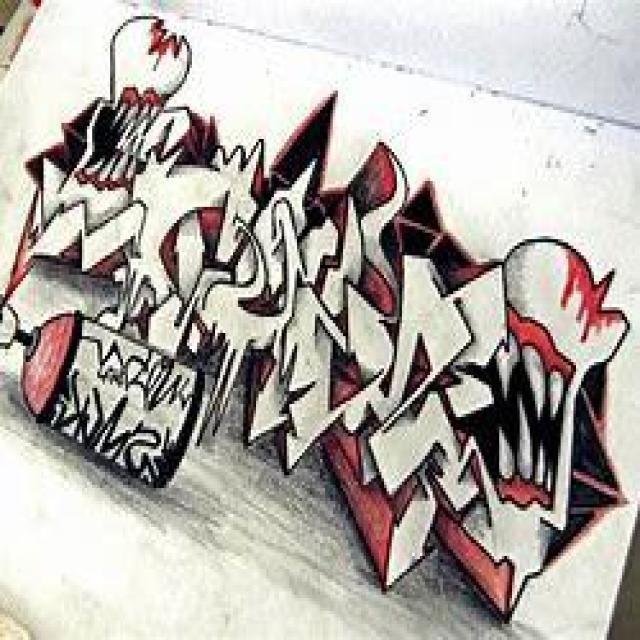nonspitting: (0, 13, 630, 618)
